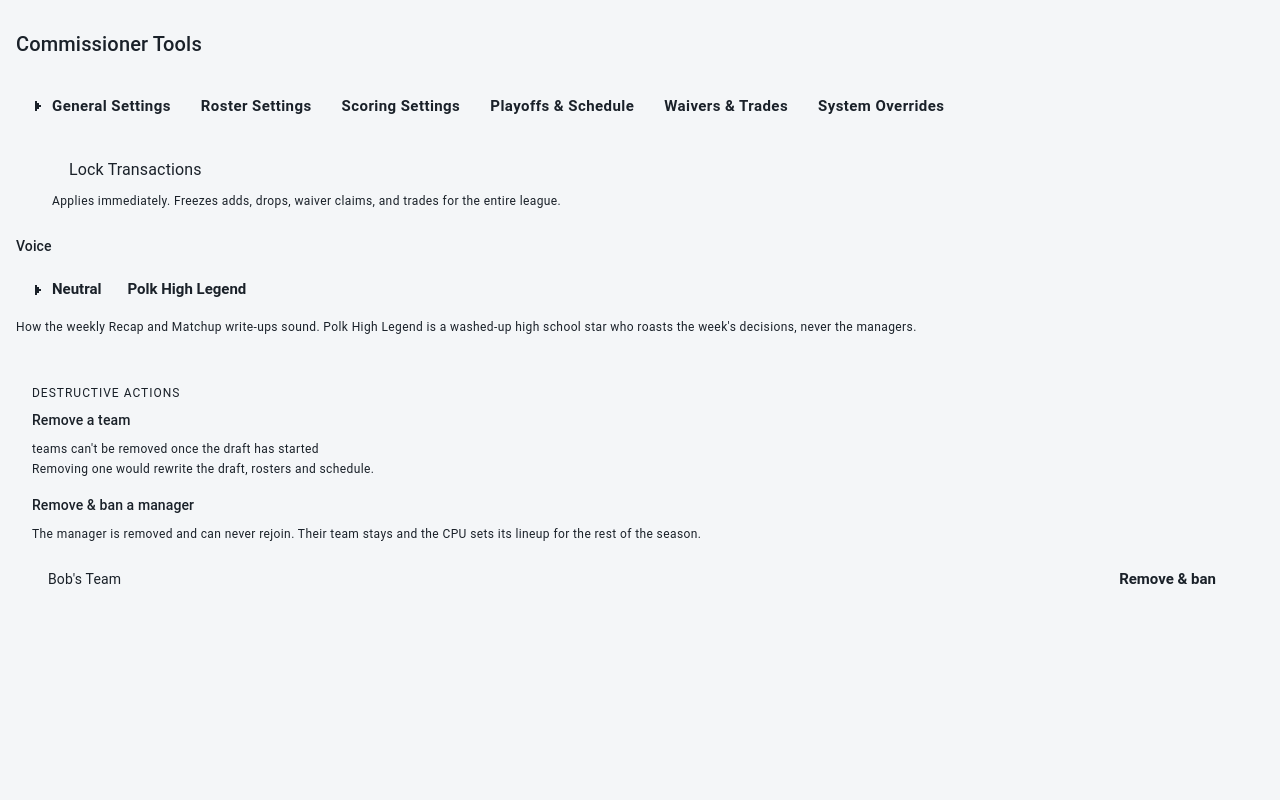
Test: Playoff structure fields are disabled once the draft has started, but the trade deadline stays editable
Click the tab "Playoffs & Schedule" at x=562, y=106, box [474, 84, 650, 128]
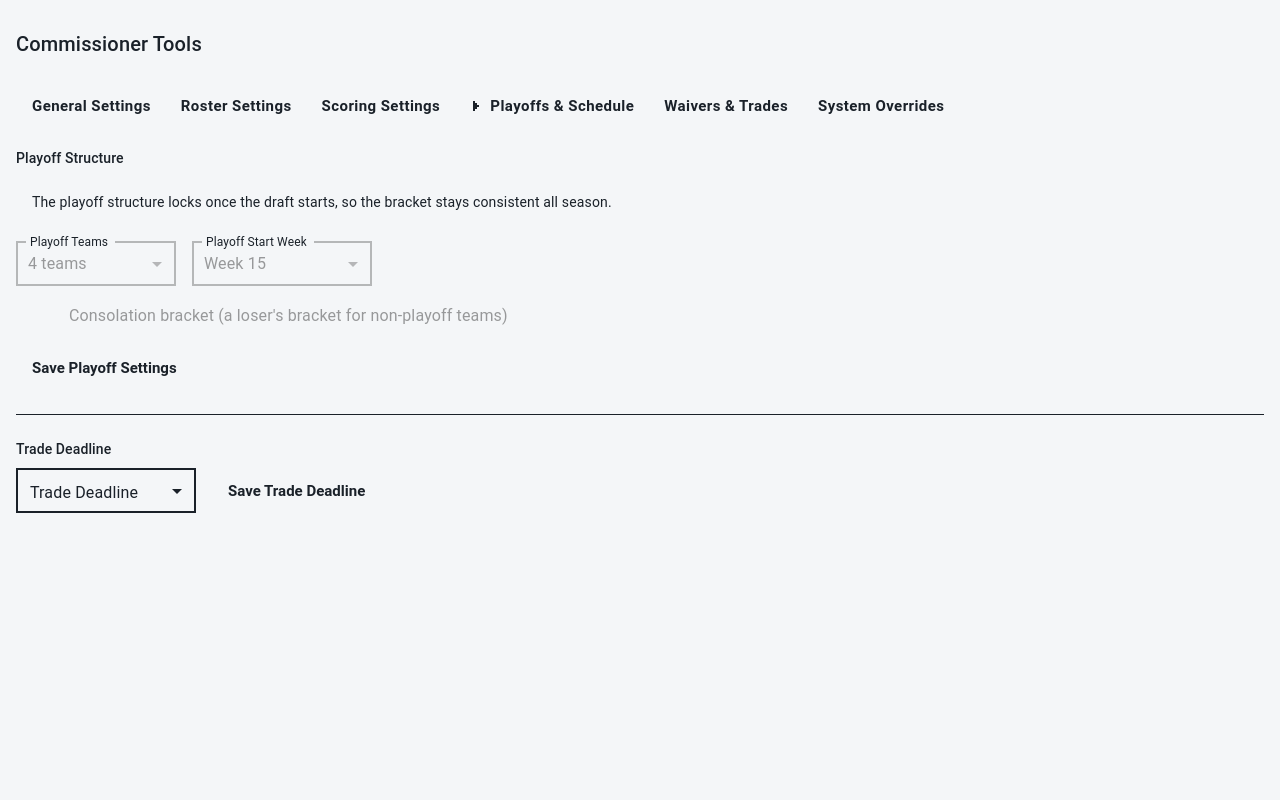
Result: the text "locks once the draft starts" is shown at [32, 194, 612, 210]
Result: the button "Save Playoff Settings" is disabled at [16, 346, 193, 390]
Result: the button "Save Trade Deadline" is enabled at [212, 469, 381, 513]
